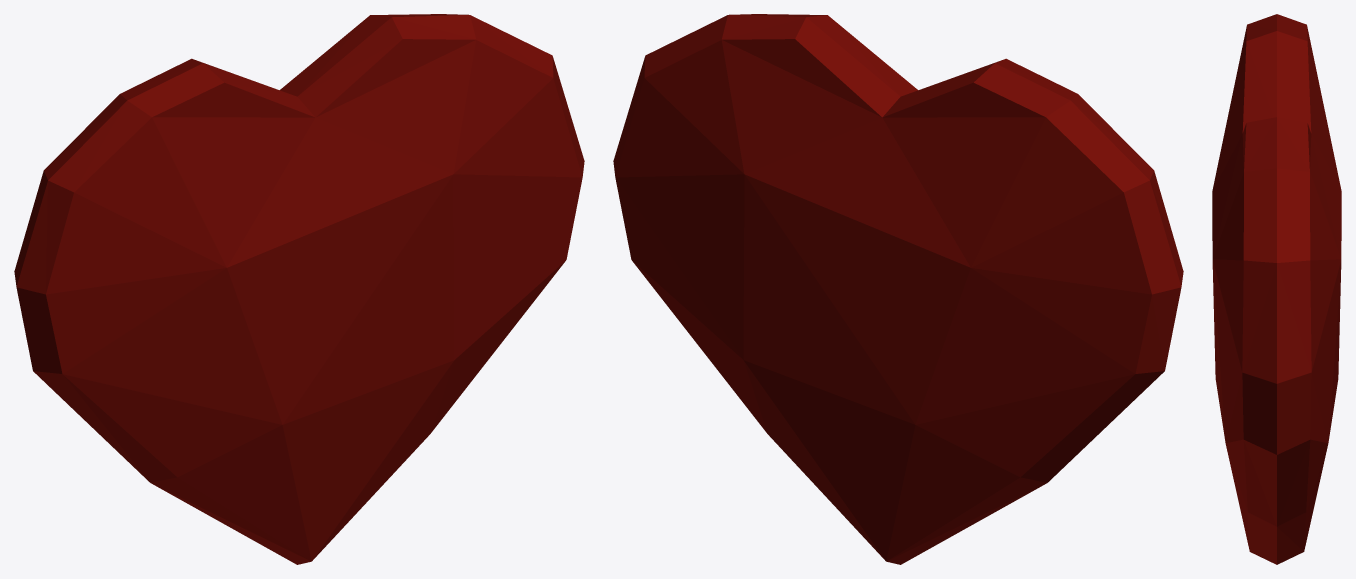
Rendered from Sign_1.fbx.
3 renders of one model, left to right at view 1: azimuth 30°, elevation 25°; view 2: azimuth 150°, elevation 25°; view 3: azimuth 270°, elevation 25°, orthographic. The views are drawn at different scales.
Visible parts, largest first — view 1: Sign_1; view 2: Sign_1; view 3: Sign_1.
Boxes of the visible parts, bbox=[...] form: Sign_1: bbox=[14, 14, 584, 564]; Sign_1: bbox=[613, 14, 1183, 564]; Sign_1: bbox=[1212, 14, 1341, 564].
Size of the model in its own units: 194 by 171 by 40.85.
